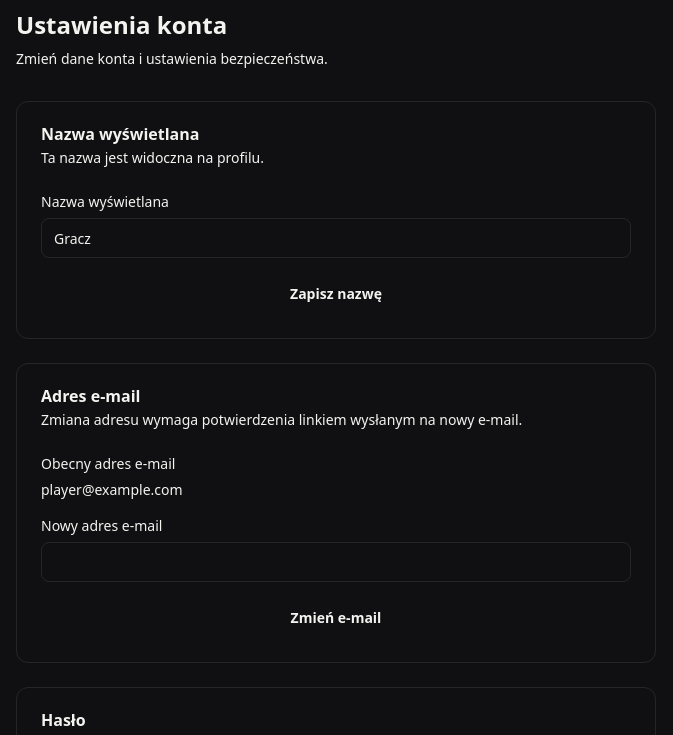
Test: SettingsPage › updates display name on success
This screenshot has width=673, height=735.
Step 1. Replace the text in the field labelled "Nazwa wyświetlana" with "Nowy Gracz" → [336, 238], box 41,218 -> 631,258
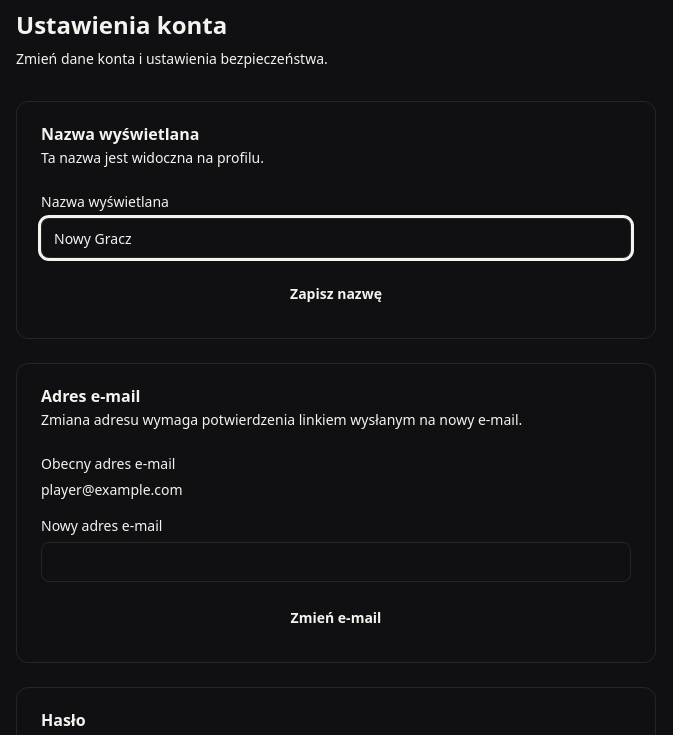
Step 2. Click the button "Zapisz nazwę" → [336, 294], box 41,274 -> 631,314
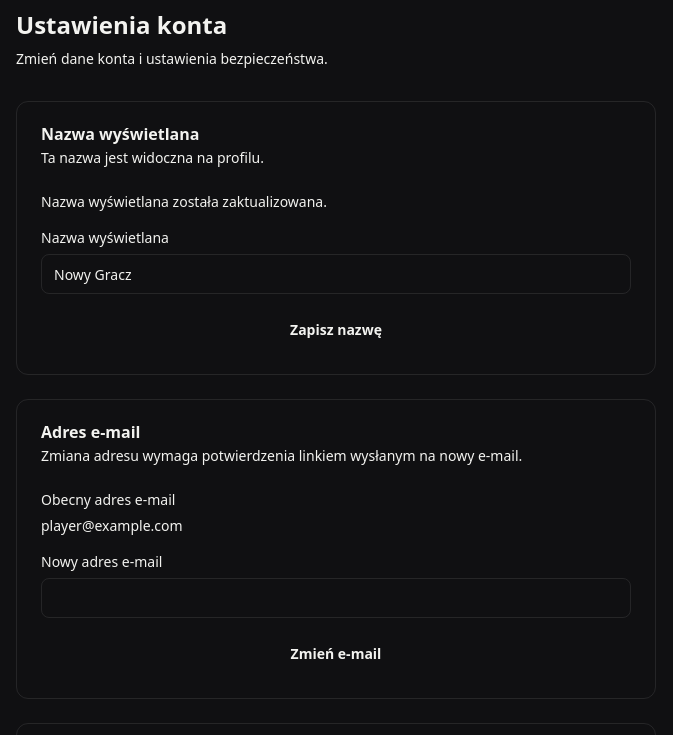
Check: the text "Nazwa wyświetlana została zaktualizowana." is shown, box 41,192 -> 327,211
